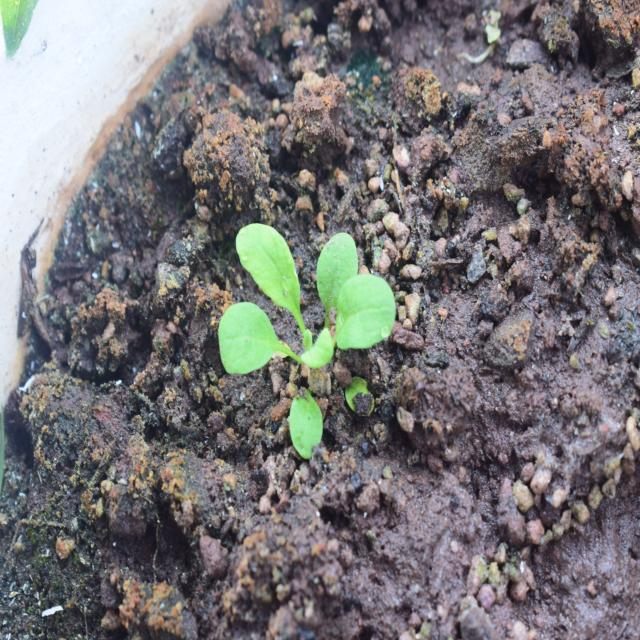Shepherd_Purse: (228, 200, 413, 455)
